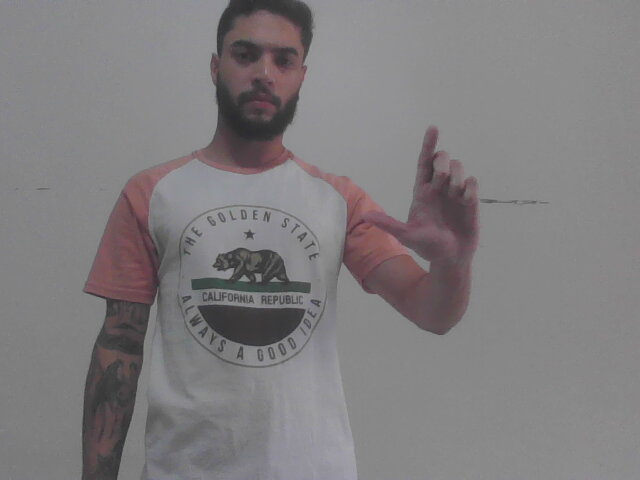l: (361, 120, 487, 269)
